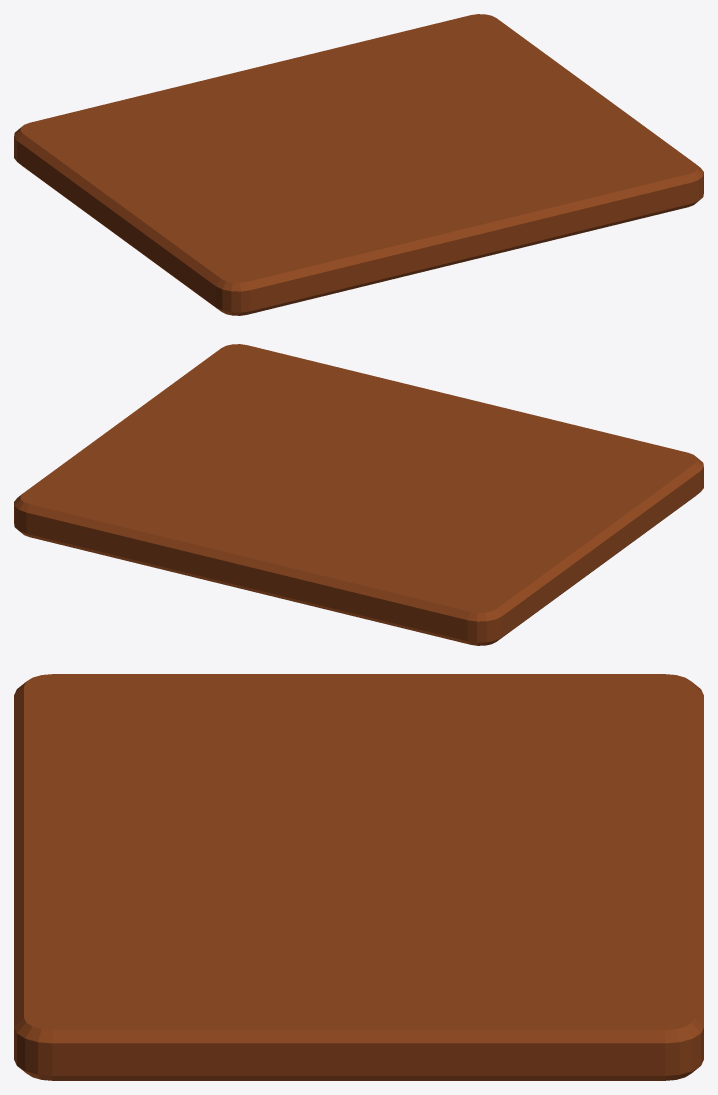
The model's file is Floor_4x3.obj.
3 views of the same model, one above another, from view 1: azimuth 30°, elevation 25°; view 2: azimuth 150°, elevation 25°; view 3: azimuth 270°, elevation 25° (orthographic). The views are drawn at different scales.
Visible parts, largest first — view 1: Floor_4x3; view 2: Floor_4x3; view 3: Floor_4x3.
Part boxes in pixels (<box>): Floor_4x3: <box>14,14,703,315</box>; Floor_4x3: <box>14,344,703,645</box>; Floor_4x3: <box>14,674,703,1080</box>.
Size of the model in its own units: 4 by 0.26 by 3.2.
